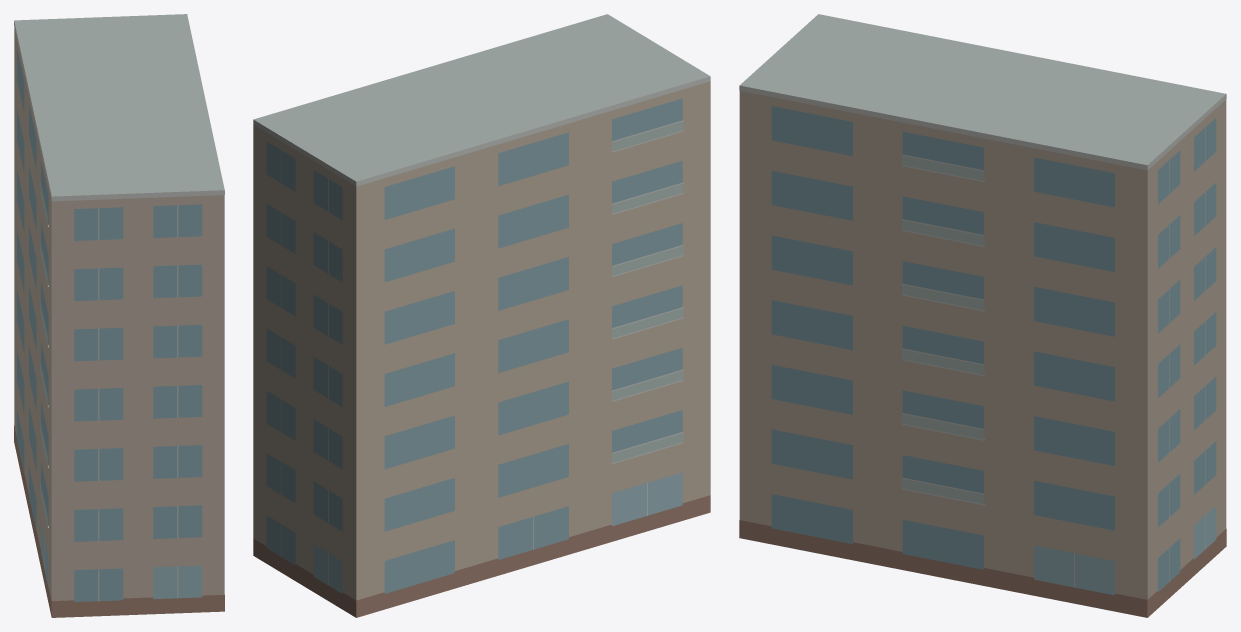
The model's file is survey-upis-32678946.glb.
The picture shows the model from 3 angles, left to right: view 1: azimuth 30°, elevation 25°; view 2: azimuth 150°, elevation 25°; view 3: azimuth 270°, elevation 25°; orthographic projection. The views are drawn at different scales.
Parts seen in each view (by area): view 1: survey-upis-32678946.tmp; view 2: survey-upis-32678946.tmp; view 3: survey-upis-32678946.tmp.
Part boxes in pixels (x1,y1,x2,y2): survey-upis-32678946.tmp: [14, 14, 224, 617]; survey-upis-32678946.tmp: [253, 14, 710, 617]; survey-upis-32678946.tmp: [739, 14, 1226, 617].
Bounding box in the file's own units: 15.31 × 21.35 × 20.83.
